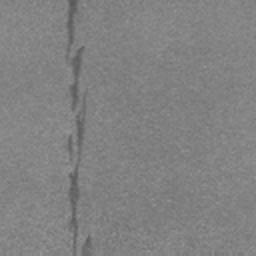Red iron sheet: (65, 0, 88, 256), (82, 235, 93, 256)
